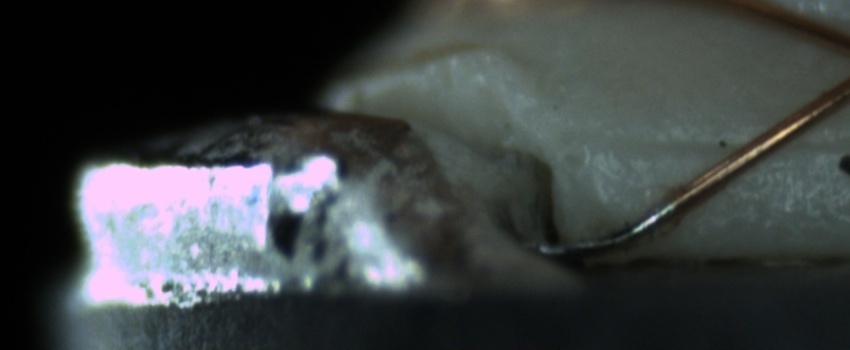DL: (607, 111, 847, 182)
TS: (534, 198, 676, 261)
